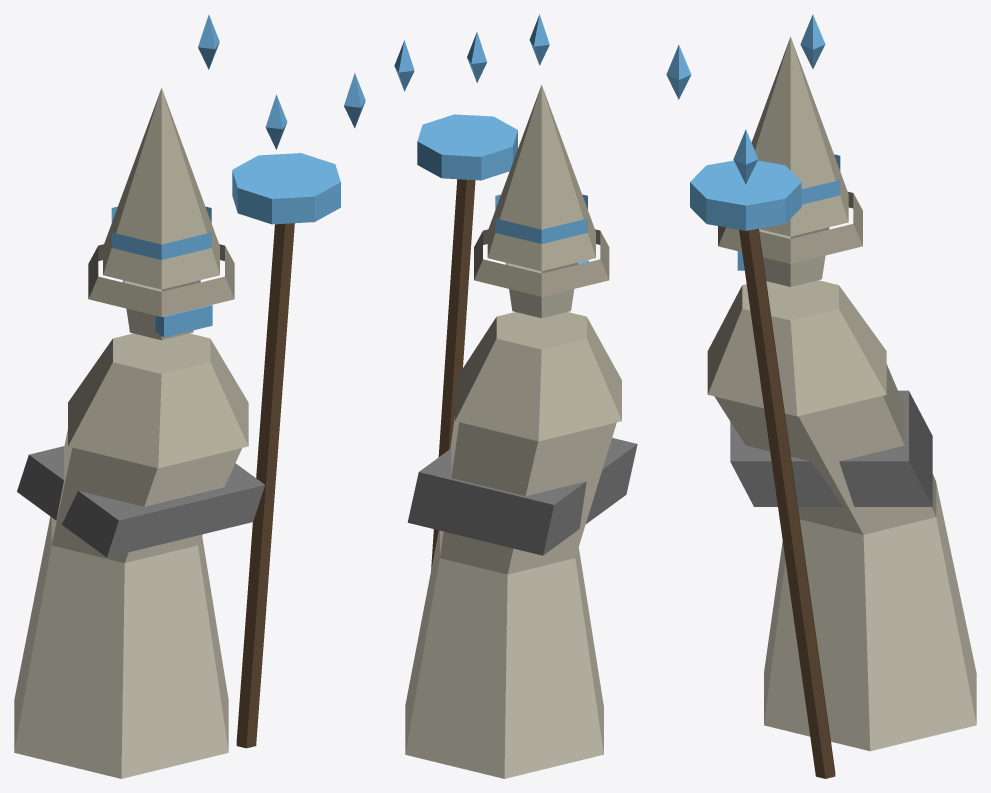
Rendered from stormcaller-attack-1.obj.
The picture shows the model from 3 angles, left to right: view 1: azimuth 30°, elevation 25°; view 2: azimuth 150°, elevation 25°; view 3: azimuth 270°, elevation 25°; orthographic projection. The views are drawn at different scales.
Parts seen in each view (by area): view 1: stormcaller-attack-1; view 2: stormcaller-attack-1; view 3: stormcaller-attack-1.
Boxes of the visible parts, x1,y1,x2,y2 form: stormcaller-attack-1: [14, 14, 365, 778]; stormcaller-attack-1: [394, 14, 637, 778]; stormcaller-attack-1: [666, 14, 976, 778].
Bounding box in the file's own units: 1.19 × 2.92 × 1.11.
